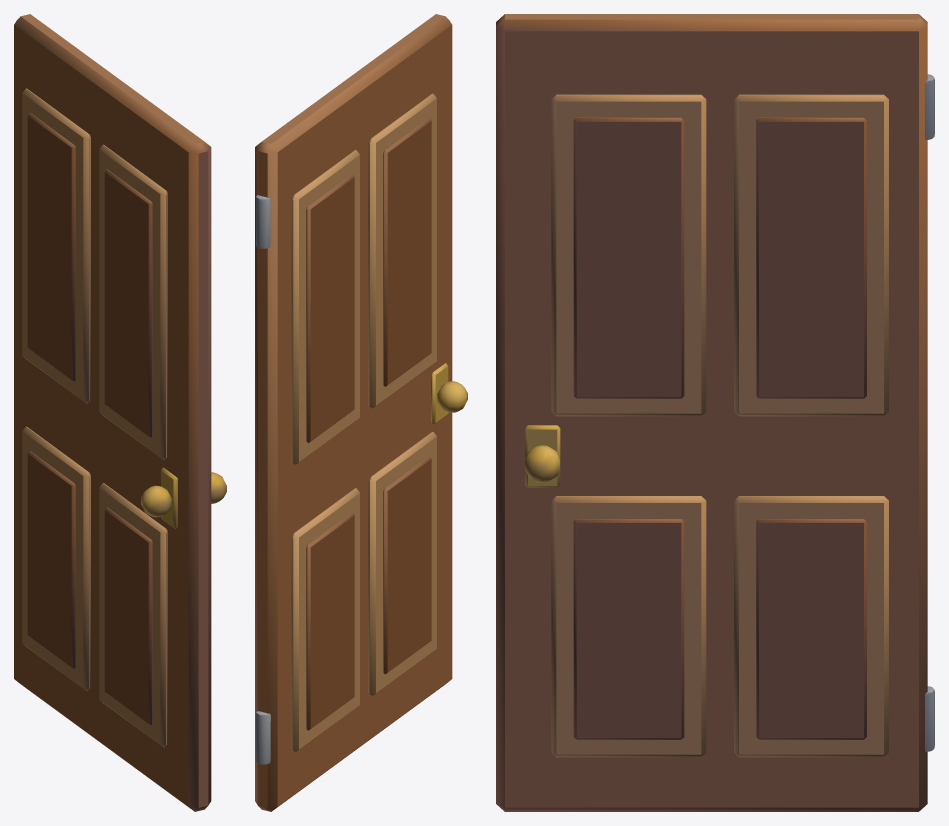
The model's file is OfficeDoorSide.fbx.
3 views of the same model, side by side, from view 1: azimuth 30°, elevation 25°; view 2: azimuth 150°, elevation 25°; view 3: azimuth 270°, elevation 25° (orthographic). The views are drawn at different scales.
Parts seen in each view (by area): view 1: SM_Bld_OfficeV2_DoorSide; view 2: SM_Bld_OfficeV2_DoorSide; view 3: SM_Bld_OfficeV2_DoorSide.
Part boxes in pixels (left/top/right/bottom): SM_Bld_OfficeV2_DoorSide: left=14, top=14, right=226, bottom=811; SM_Bld_OfficeV2_DoorSide: left=255, top=14, right=467, bottom=811; SM_Bld_OfficeV2_DoorSide: left=496, top=14, right=934, bottom=811.
Size of the model in its own units: 1.01 by 7.9 by 3.96.
